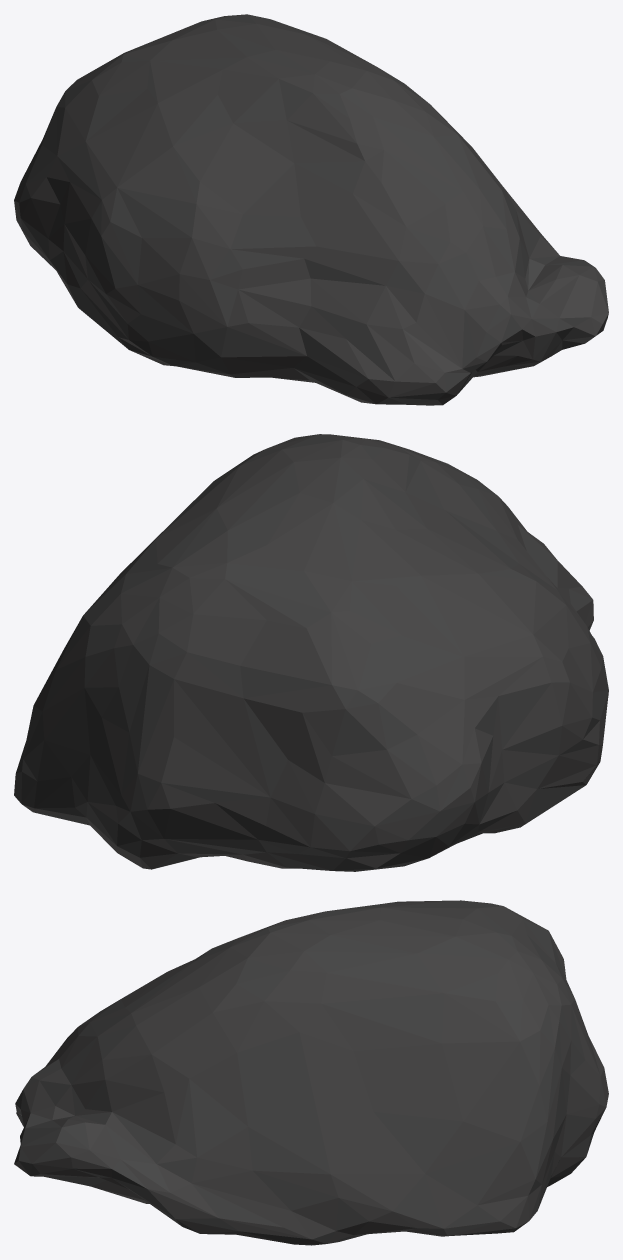
The model's file is stein.obj.
3 views of the same model, one above another, from view 1: azimuth 30°, elevation 25°; view 2: azimuth 150°, elevation 25°; view 3: azimuth 270°, elevation 25° (orthographic). The views are drawn at different scales.
Parts seen in each view (by area): view 1: Rock_2_Icosphere.001; view 2: Rock_2_Icosphere.001; view 3: Rock_2_Icosphere.001.
Boxes of the visible parts, x1,y1,x2,y2 form: Rock_2_Icosphere.001: (14, 14, 608, 405); Rock_2_Icosphere.001: (14, 434, 608, 871); Rock_2_Icosphere.001: (14, 900, 608, 1245).
Size of the model in its own units: 0.7642 by 0.4802 by 1.
1 material, 1 textured.
